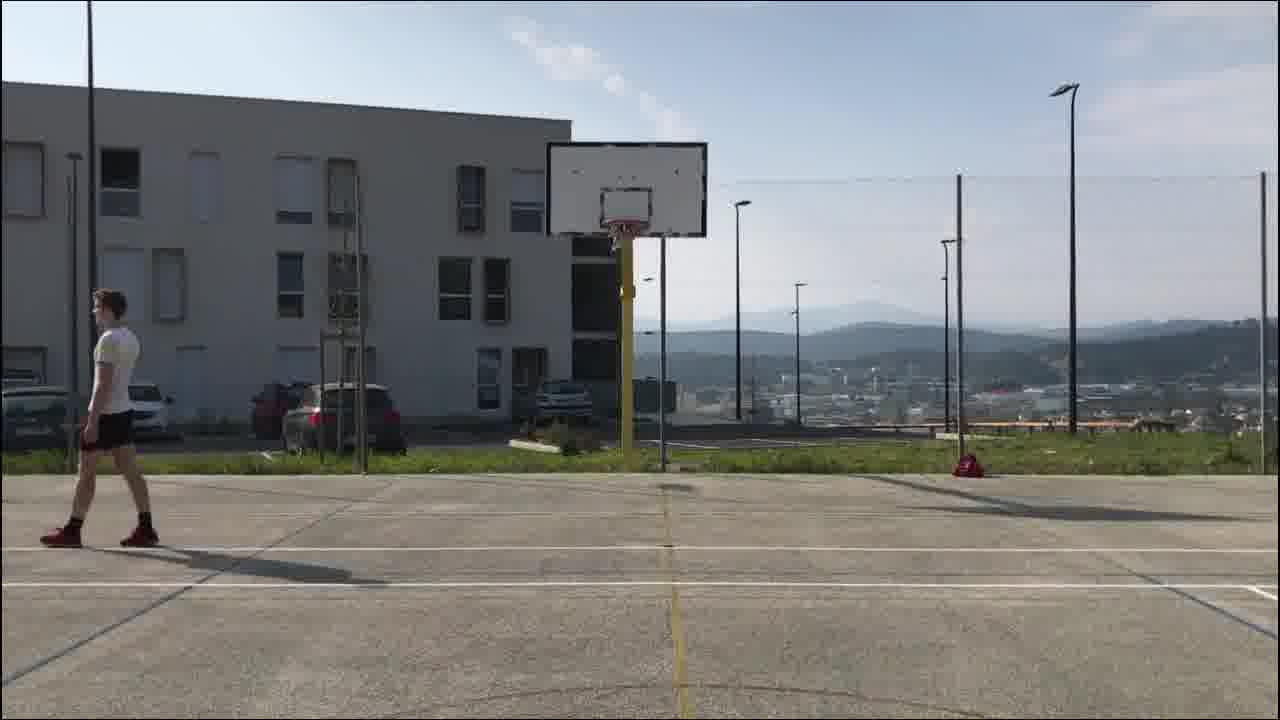jugador: (30, 278, 170, 556)
